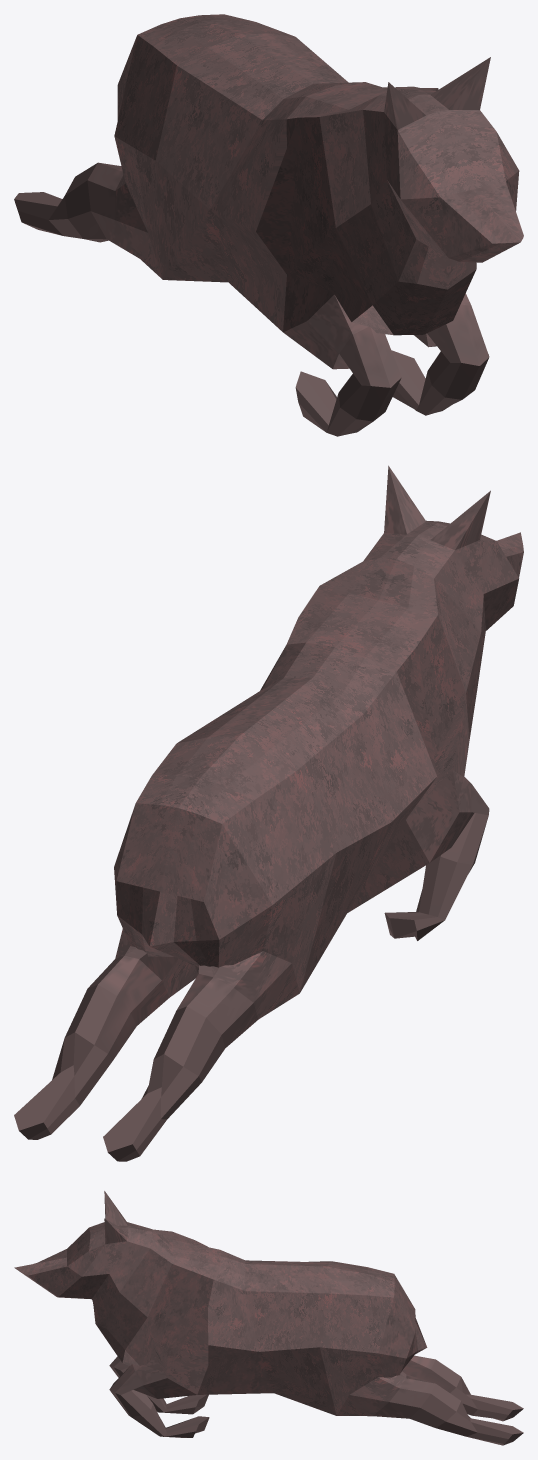
Rendered from piesblendtex_000020.obj.
3 renders of one model, top to bottom at view 1: azimuth 30°, elevation 25°; view 2: azimuth 150°, elevation 25°; view 3: azimuth 270°, elevation 25°, orthographic. The views are drawn at different scales.
Visible parts, largest first — view 1: Cube; view 2: Cube; view 3: Cube.
Boxes of the visible parts, box(x1,y1,x2,y2) form: Cube: box(14, 14, 523, 436); Cube: box(14, 465, 523, 1161); Cube: box(14, 1191, 523, 1445).
Bounding box in the file's own units: 2.56 × 5.54 × 11.16.
